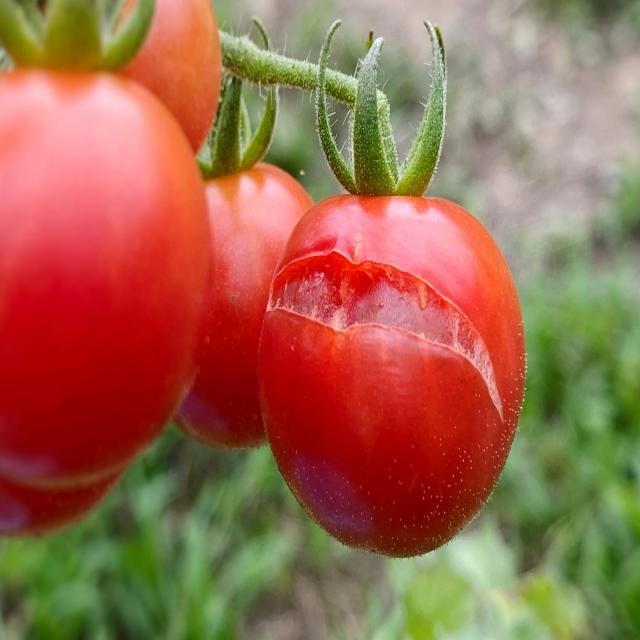damaged: (253, 182, 537, 558)
overripe: (1, 59, 213, 481), (156, 135, 320, 472)
